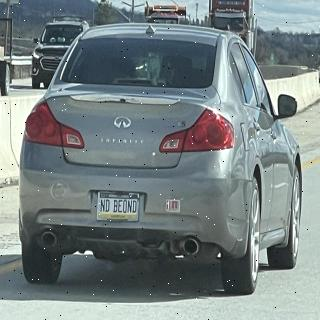license: (97, 191, 140, 224)
